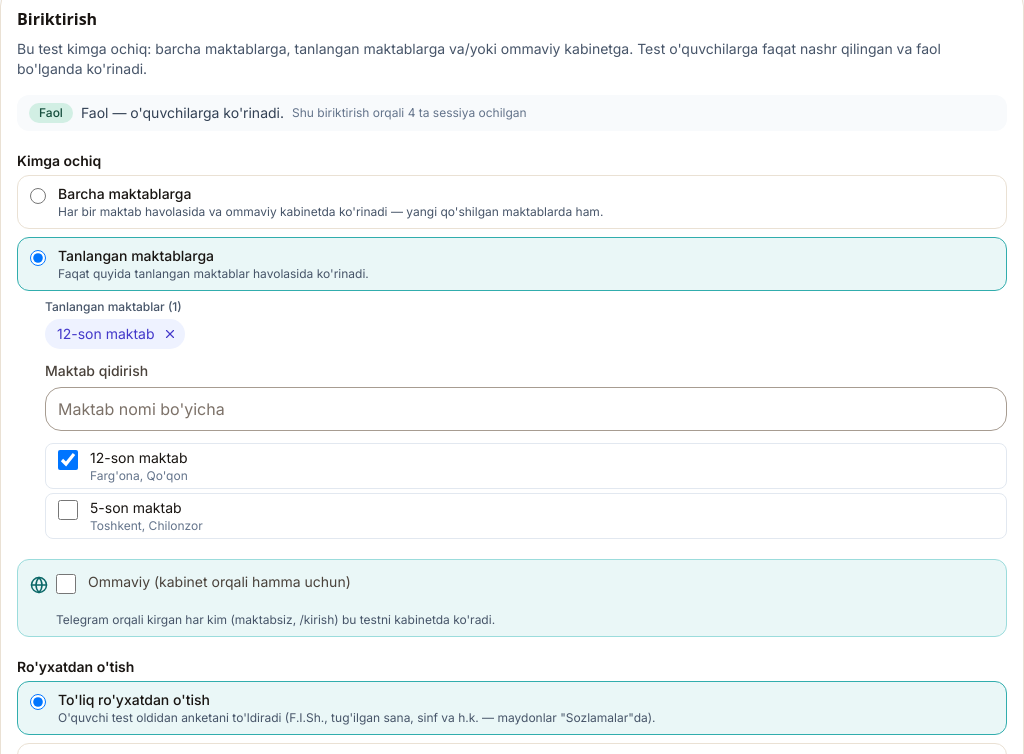
Scenario: TestAssignmentCard › maktab qidiruvdan tanlanib saqlanganda PUT tanasi to'g'ri ketadi
Click the checkbox labelled "5-son maktab Toshkent, Chilonzor": {"x": 68, "y": 510} [58,500,78,520]
(page scrolled)
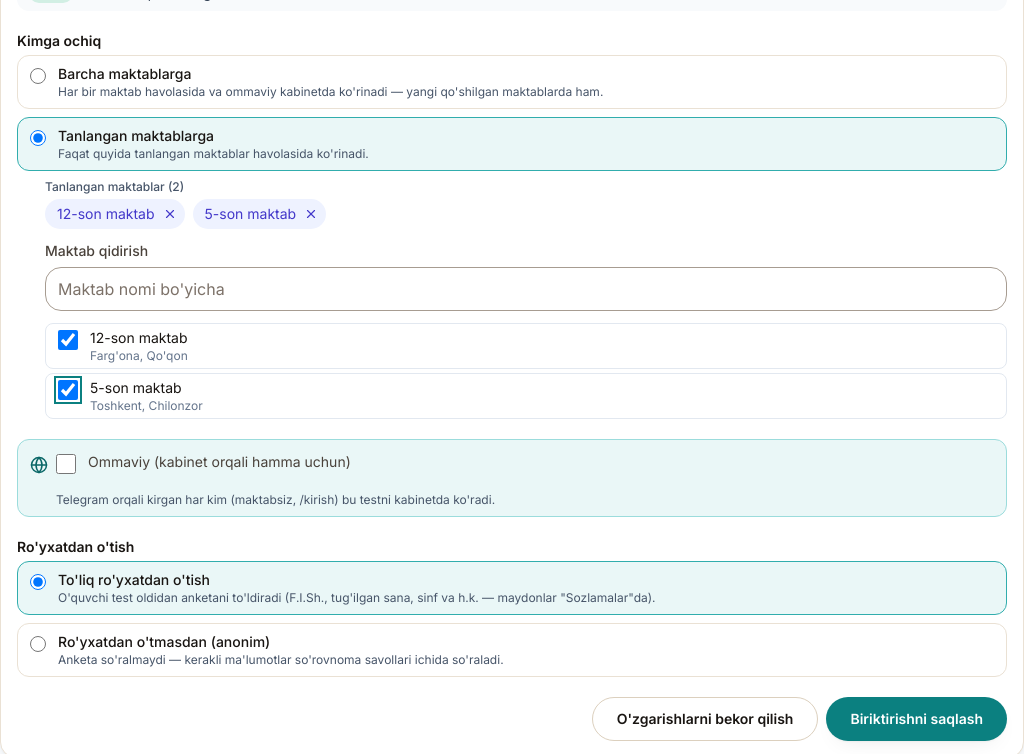
Now the button named "5-son maktab maktabini olib tashlash" is shown, box [300,203,322,225]
Click the button "Biriktirishni saqlash": {"x": 917, "y": 719} [826,697,1007,741]
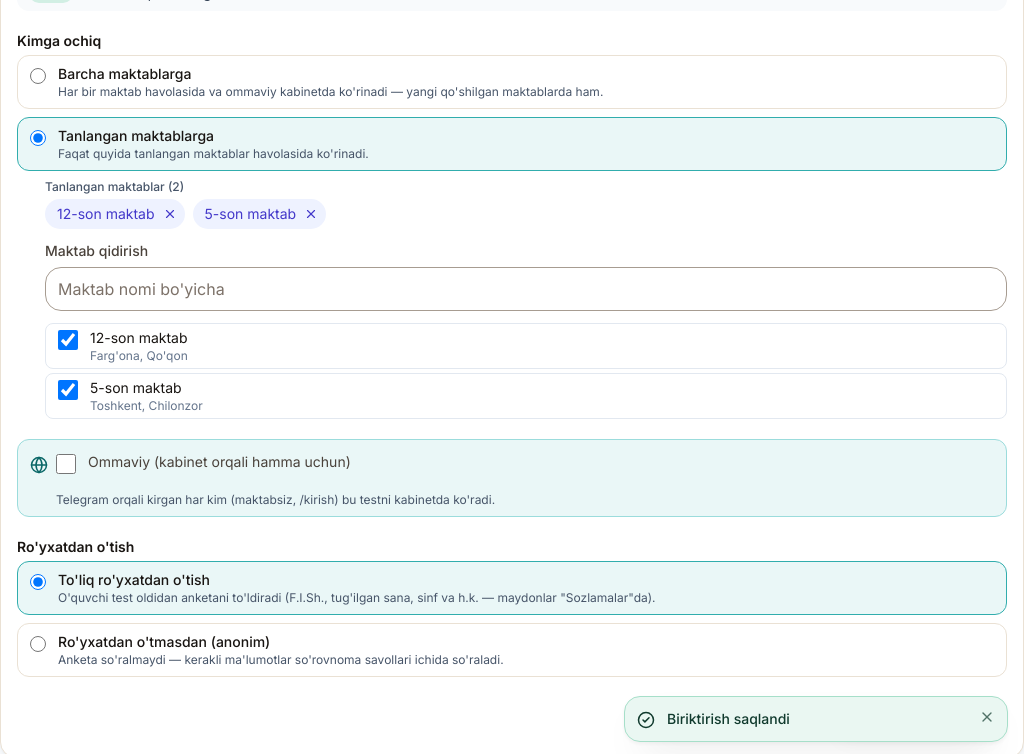
Now the text "Biriktirish saqlandi" is shown, box [667,710,790,727]
